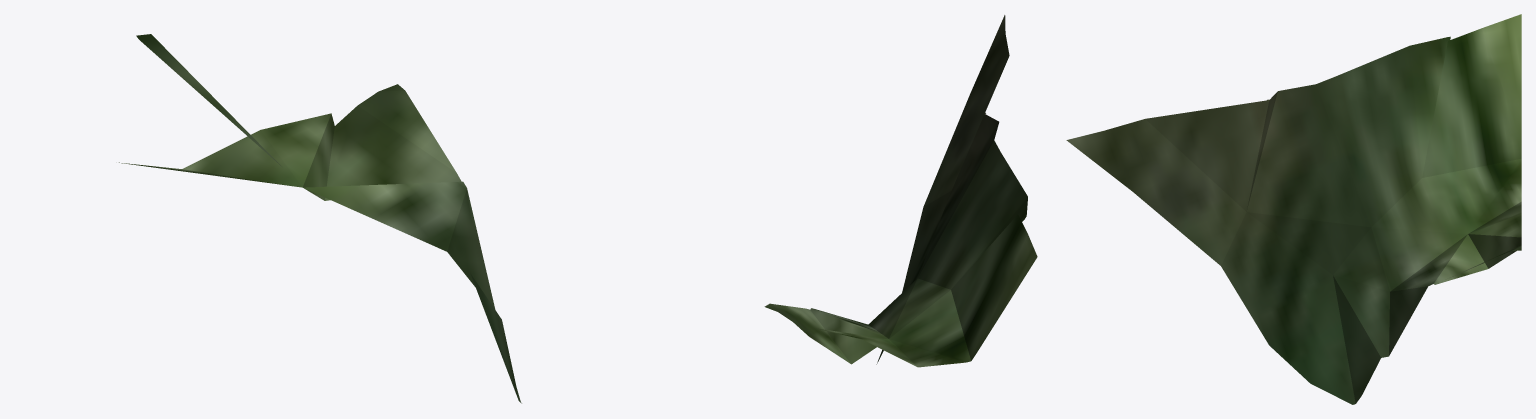
3 views of the same model, side by side, from view 1: azimuth 30°, elevation 25°; view 2: azimuth 150°, elevation 25°; view 3: azimuth 270°, elevation 25° (orthographic). The views are drawn at different scales.
Bounding box in the file's own units: 0.9373 × 0.9175 × 1.43.
Materials: 1 (1 with a texture image).
